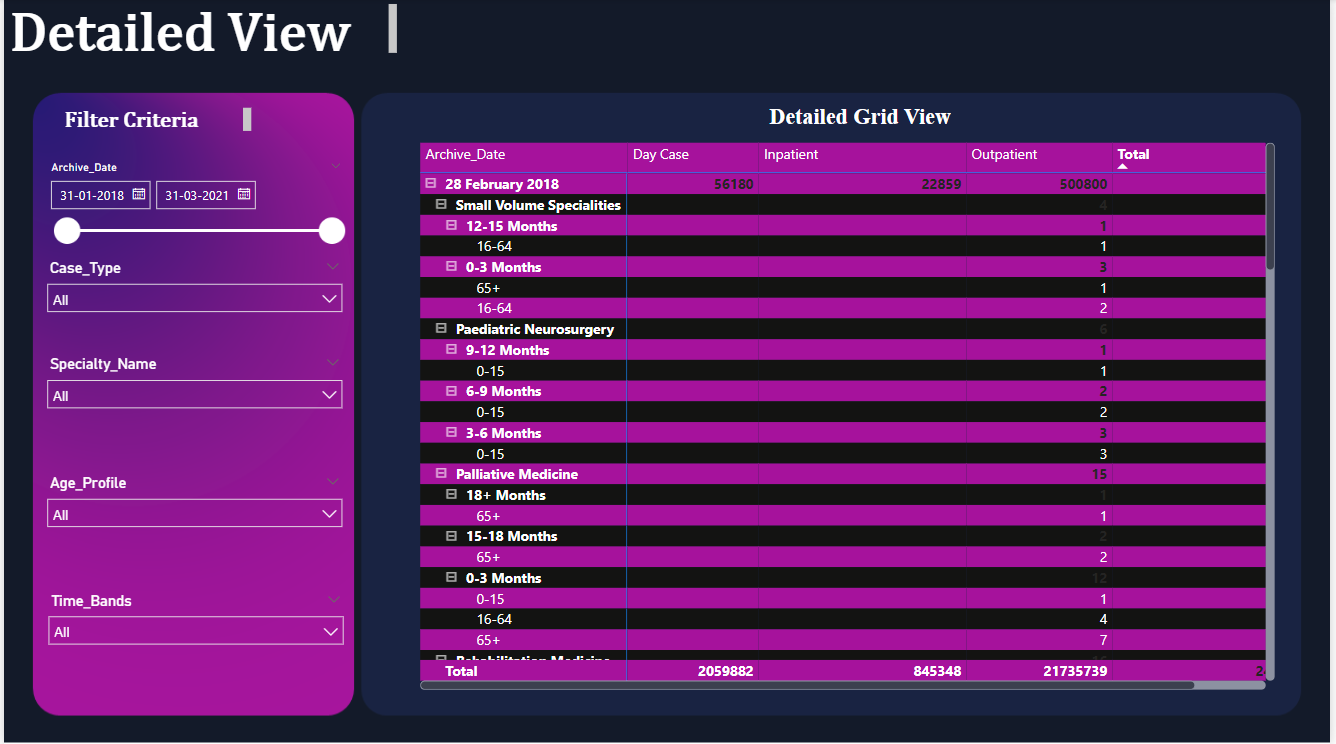

What the dashboard file says about the page in this screenshot:
{"tool":"powerbi","page":{"name":"Detailed View","canvas":[1280,720],"ordinal":1},"visuals":[{"type":"slicer","fields":{"Values":["All_Data.Archive_Date"]},"box":[32.6,150.8,305.2,105],"z":0},{"type":"slicer","fields":{"Values":["All_Data.Case_Type"]},"box":[31.4,246.1,305.2,79.6],"z":1000},{"type":"slicer","fields":{"Values":["All_Data.Specialty_Name"]},"box":[31.4,339,305.2,97.7],"z":2000},{"type":"textbox","box":[0,0,384,64],"z":3000},{"type":"slicer","fields":{"Values":["All_Data.Age_Profile"]},"box":[31.4,453.6,305.2,102.5],"z":4000},{"type":"slicer","fields":{"Values":["All_Data.Time_Bands"]},"box":[32.6,567,305.2,105],"z":5000},{"type":"pivotTable","fields":{"Rows":["All_Data.Archive_Date","All_Data.Speciality_Name","All_Data.Time_Bands","All_Data.Age_Profile"],"Columns":["All_Data.Case_Type"],"Values":["Sum(All_Data.Total)"]},"box":[396.9,133.9,834.9,538.1],"z":6000},{"type":"textbox","box":[733.5,96.5,185.8,54.3],"z":7000},{"type":"textbox","box":[53.1,100.1,190.6,33.8],"z":8000}]}

Visuals, with their boxes in screenshot pixels (x1, y1, x2, y2), scaled from the page's 1280x720 canvas onto the 1336x744 screenshot:
slicer - All_Data.Archive_Date: box(34, 156, 353, 264)
slicer - All_Data.Case_Type: box(33, 254, 351, 337)
slicer - All_Data.Specialty_Name: box(33, 350, 351, 451)
textbox: box(0, 0, 401, 66)
slicer - All_Data.Age_Profile: box(33, 469, 351, 575)
slicer - All_Data.Time_Bands: box(34, 586, 353, 694)
pivotTable - All_Data.Archive_Date x All_Data.Speciality_Name: box(414, 138, 1286, 694)
textbox: box(766, 100, 960, 156)
textbox: box(55, 103, 254, 138)
